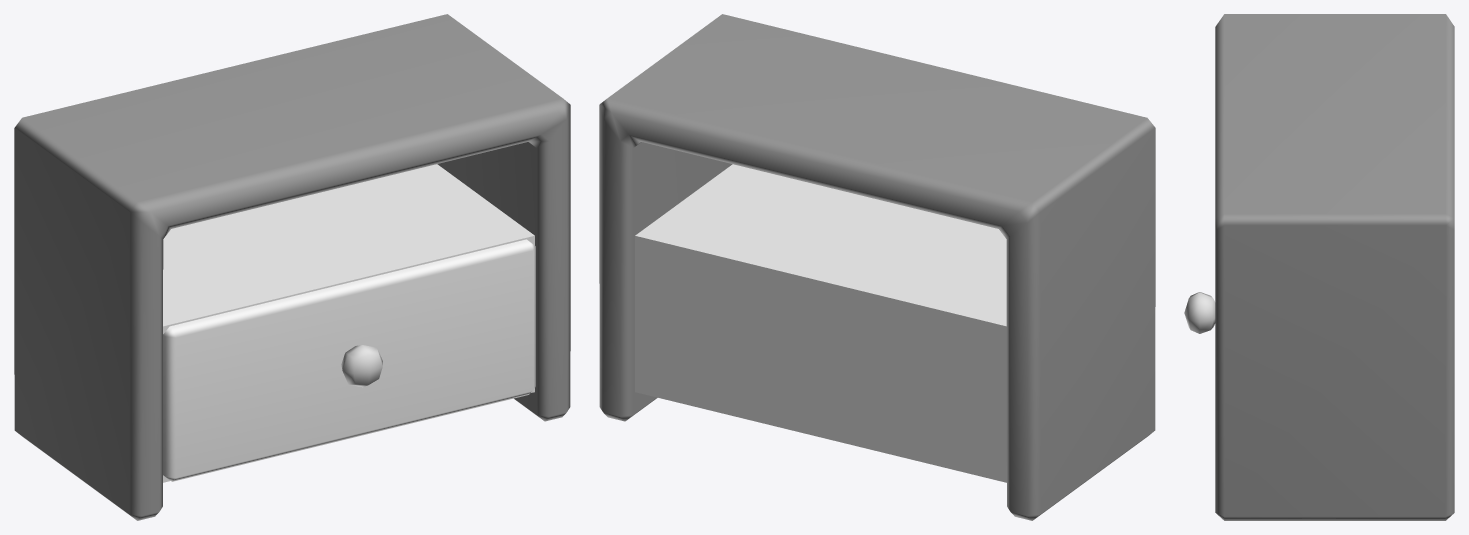
File: dresser_022.fbx
The picture shows the model from 3 angles, left to right: view 1: azimuth 30°, elevation 25°; view 2: azimuth 150°, elevation 25°; view 3: azimuth 270°, elevation 25°; orthographic projection. The views are drawn at different scales.
Parts seen in each view (by area): view 1: dresser_022; view 2: dresser_022; view 3: dresser_022.
Part boxes in pixels (bbox=[...]): dresser_022: bbox=[14, 14, 570, 520]; dresser_022: bbox=[599, 14, 1155, 520]; dresser_022: bbox=[1184, 14, 1454, 520].
Bounding box in the file's own units: 90.01 × 49.63 × 62.23.
